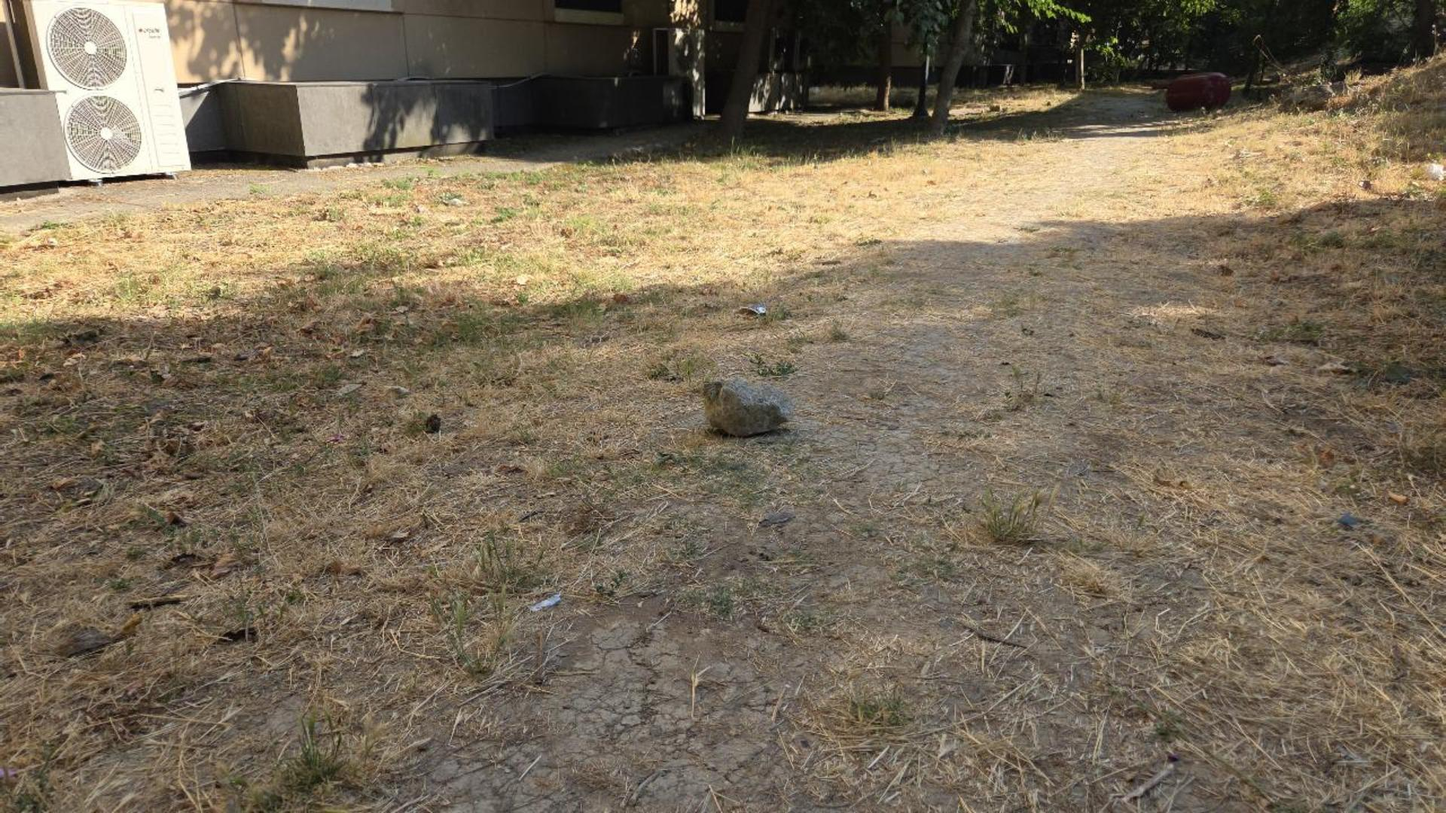rock: (704, 378, 793, 436)
